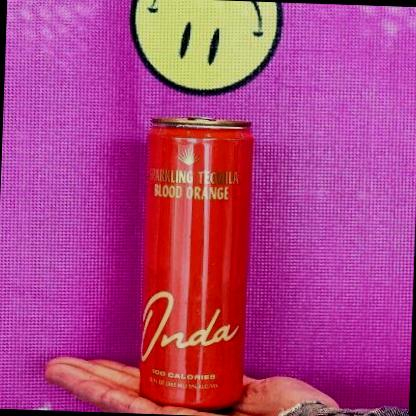alumunium_can: (134, 109, 259, 416)
